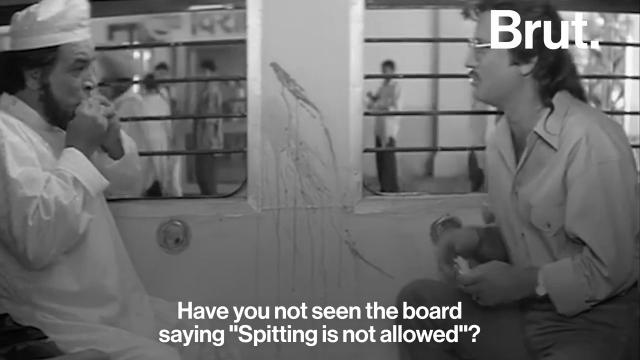spit: (258, 70, 380, 310)
